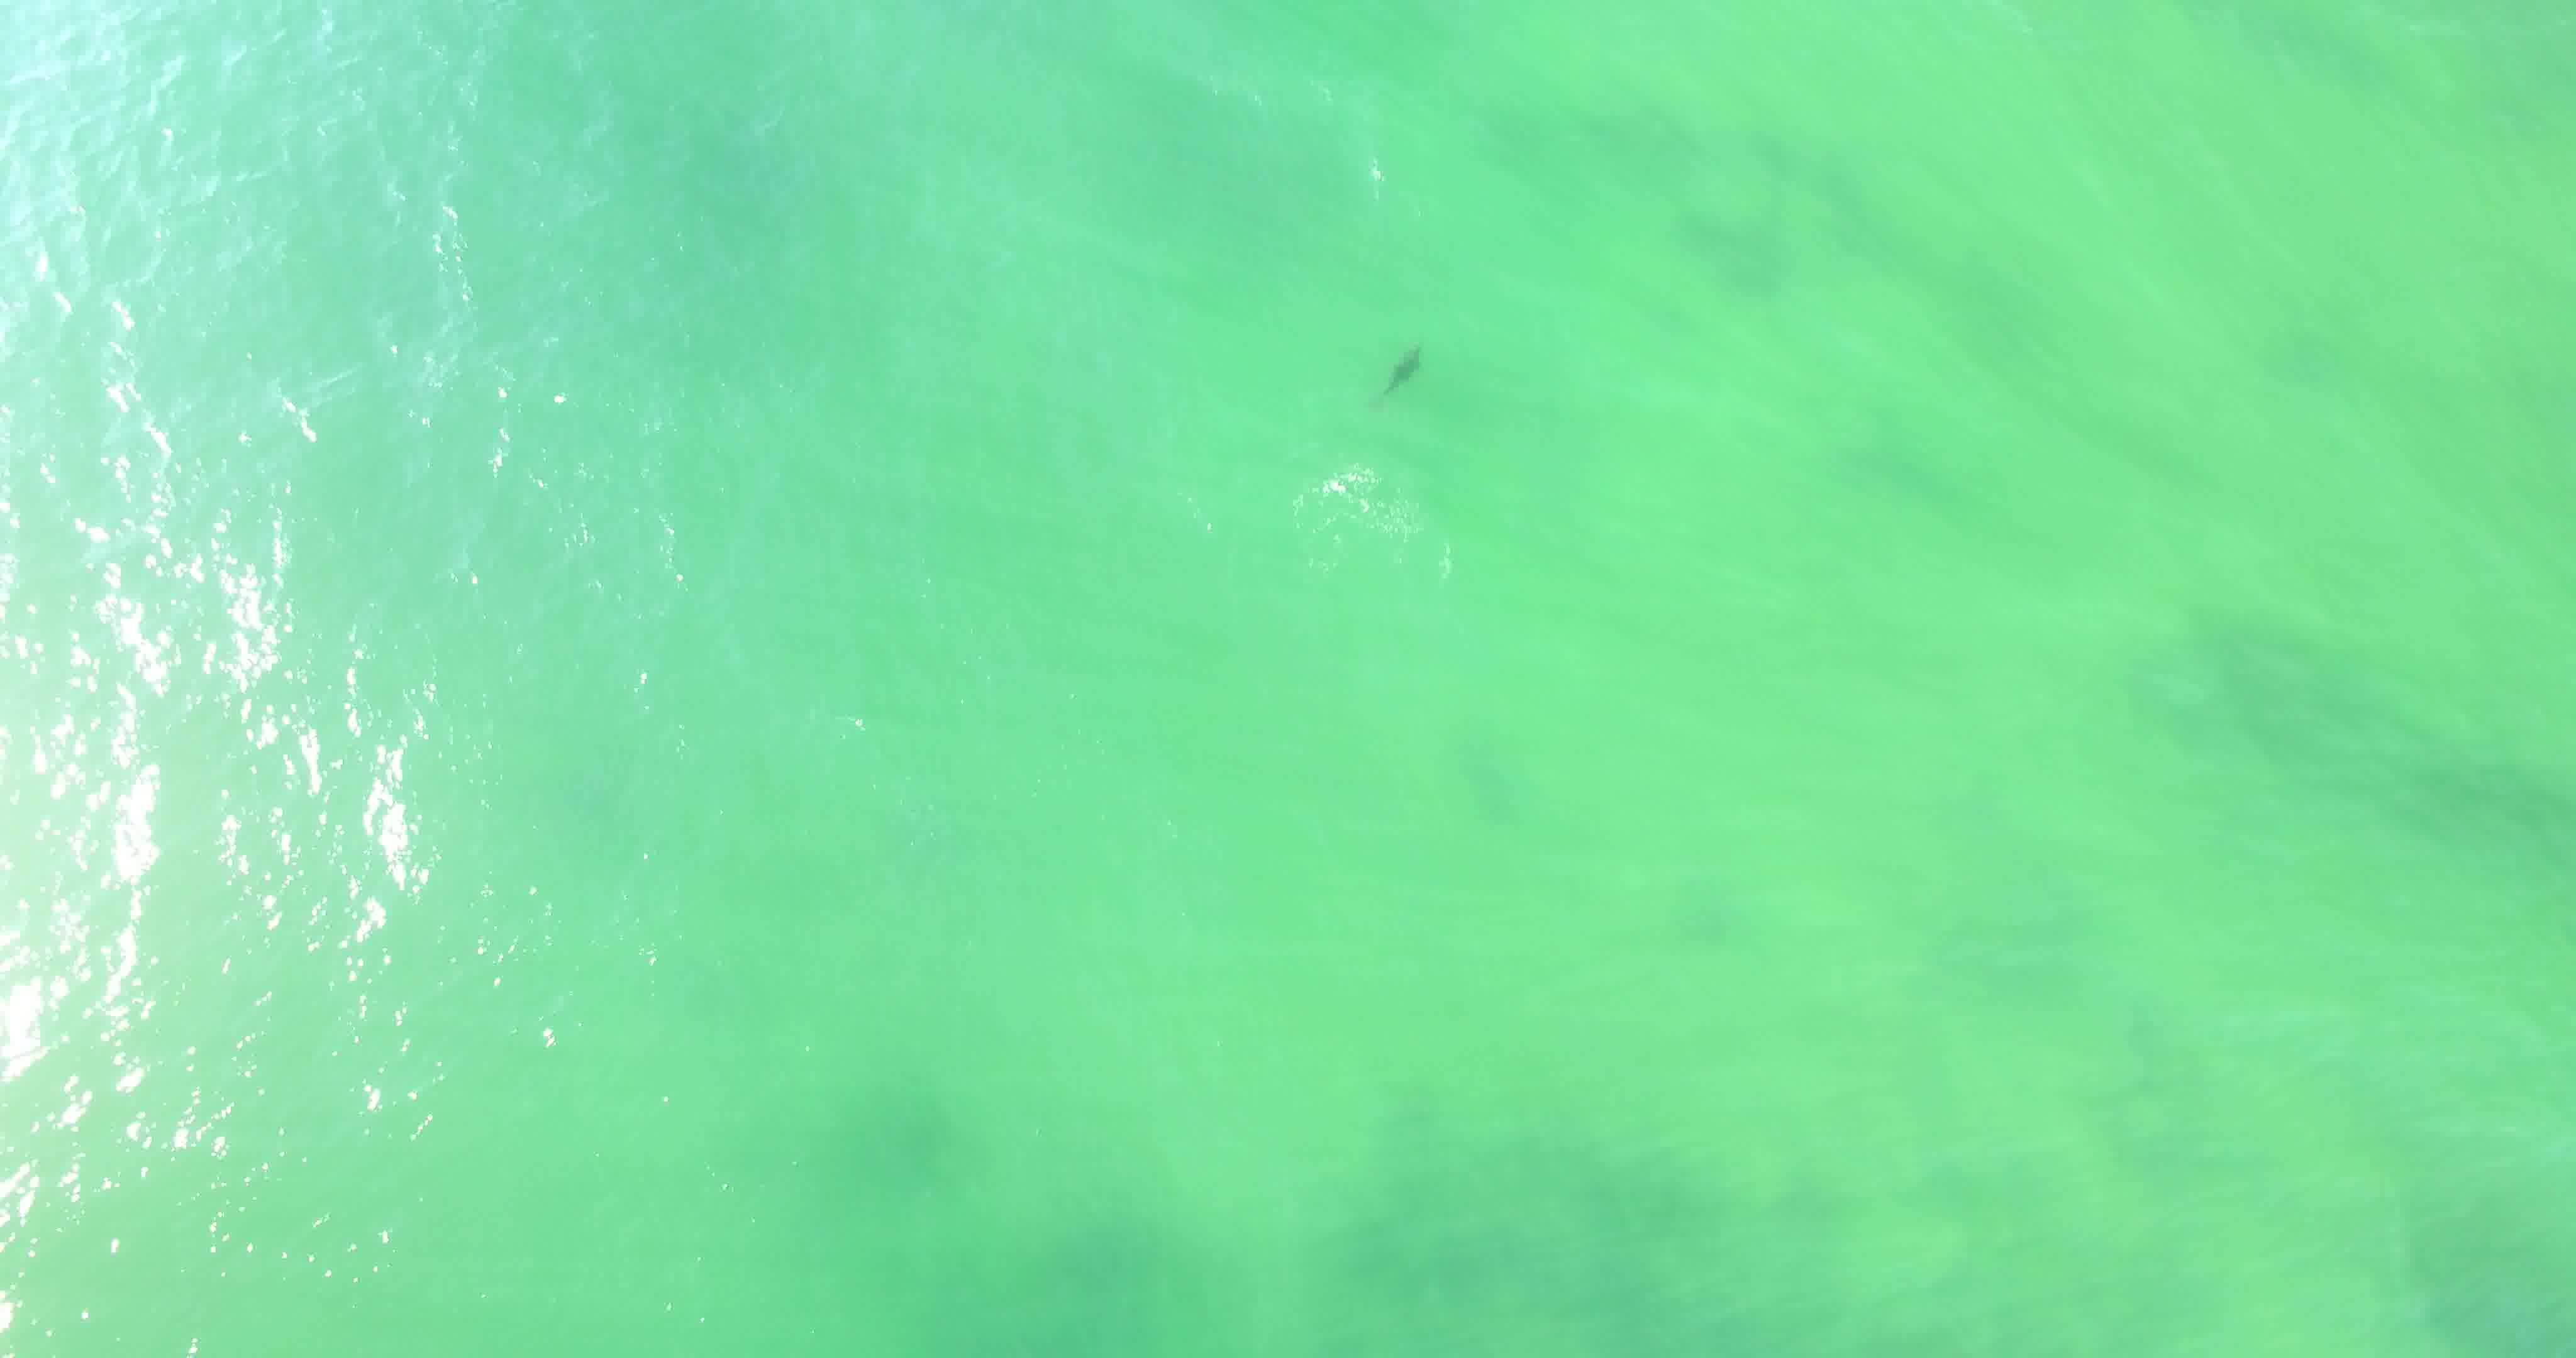dolphin: (1361, 312, 1440, 426)
